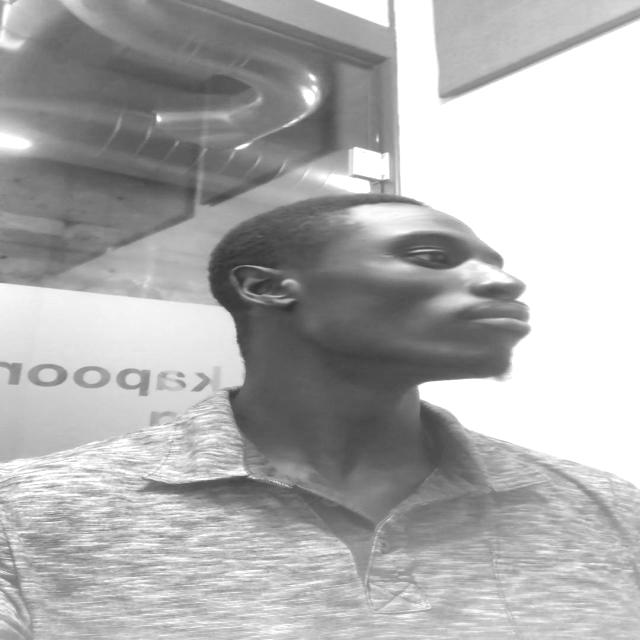real: (218, 206, 529, 384)
